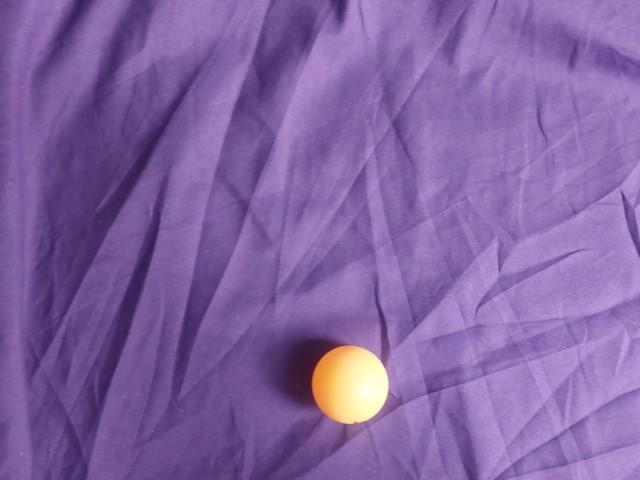oball: (243, 51, 337, 140)
